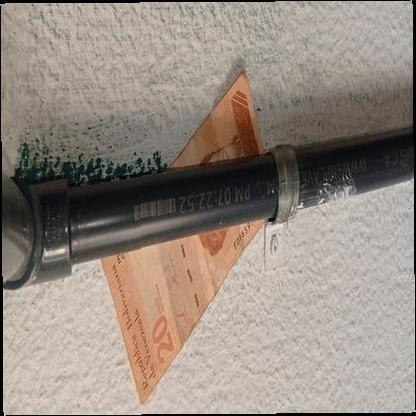twenty-front-vef: (100, 71, 270, 403)
